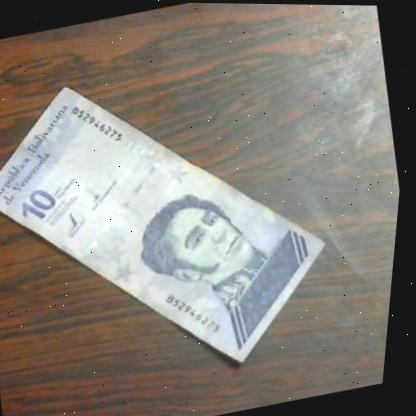ten-front-vef: (0, 35, 366, 413)
